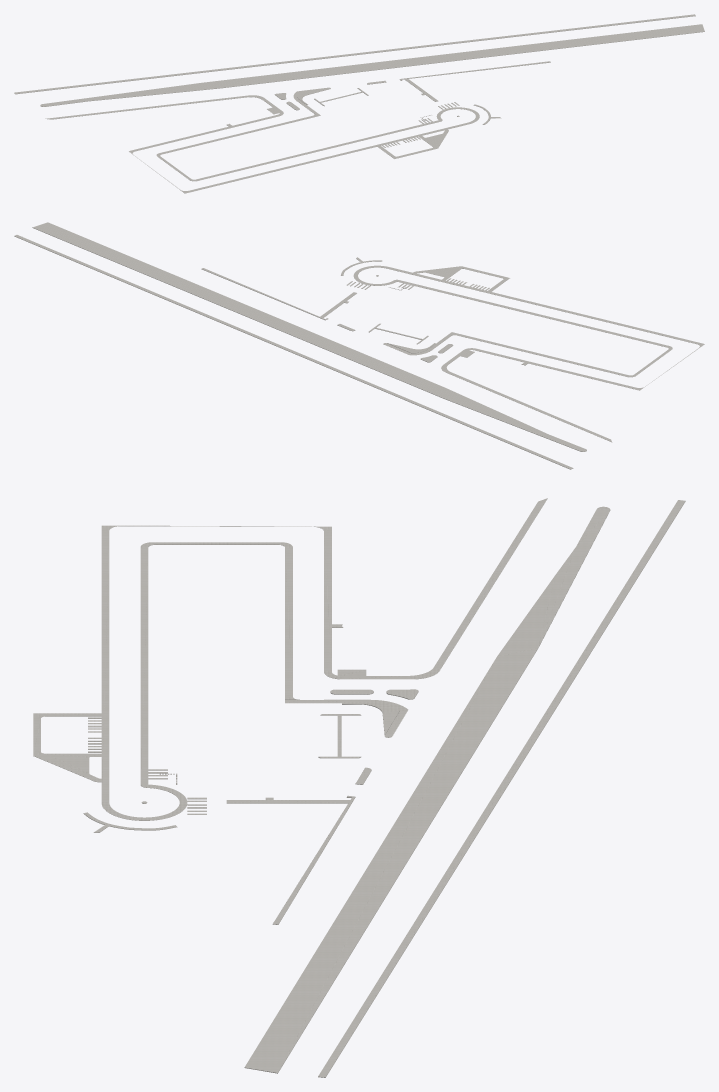
The model's file is banqueta final.fbx.
3 views of the same model, one above another, from view 1: azimuth 30°, elevation 25°; view 2: azimuth 150°, elevation 25°; view 3: azimuth 270°, elevation 25° (orthographic). The views are drawn at different scales.
Visible parts, largest first — view 1: Layer:3D BANQ; view 2: Layer:3D BANQ; view 3: Layer:3D BANQ.
Boxes of the visible parts, x1,y1,x2,y2 form: Layer:3D BANQ: [14, 14, 704, 193]; Layer:3D BANQ: [14, 222, 704, 469]; Layer:3D BANQ: [33, 498, 685, 1077].
Bounding box in the file's own units: 351 × 0.2102 × 167.
1 material, 1 textured.
